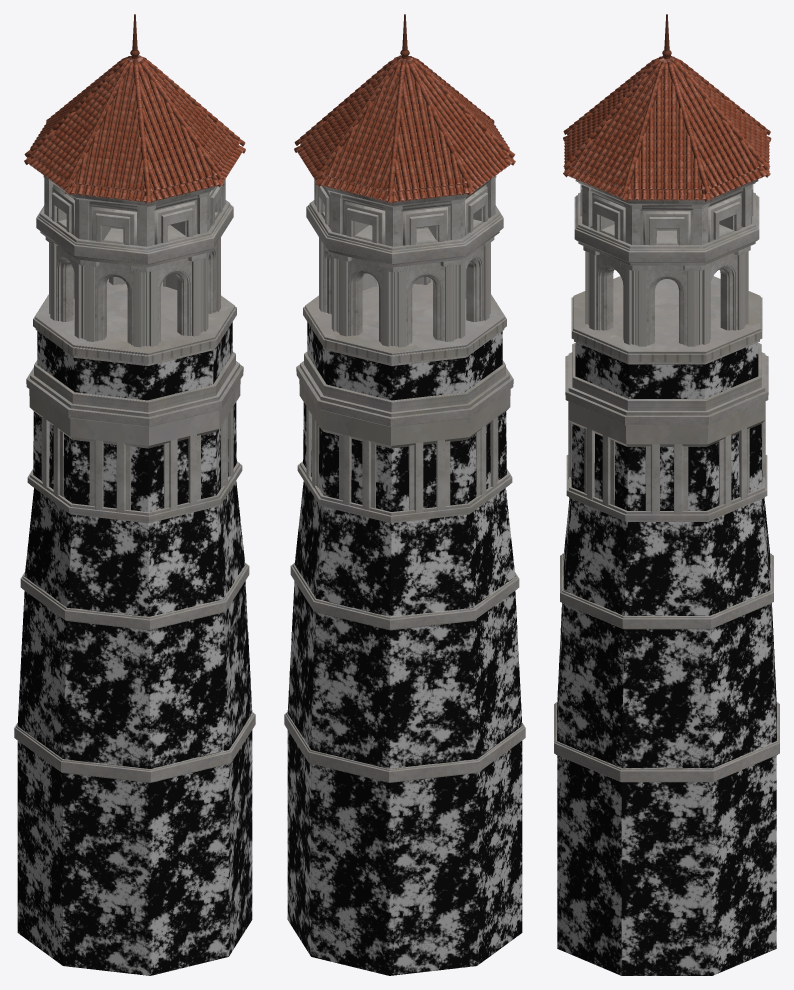
Rendered from SM_Tower_Big.fbx.
3 views of the same model, side by side, from view 1: azimuth 30°, elevation 25°; view 2: azimuth 150°, elevation 25°; view 3: azimuth 270°, elevation 25° (orthographic).
Visible parts, largest first — view 1: SM_Tower_Big_LOD0; view 2: SM_Tower_Big_LOD0; view 3: SM_Tower_Big_LOD0.
Boxes of the visible parts, x1,y1,x2,y2 form: SM_Tower_Big_LOD0: [14, 14, 255, 975]; SM_Tower_Big_LOD0: [284, 14, 525, 975]; SM_Tower_Big_LOD0: [554, 14, 779, 975].
Size of the model in its own units: 1219 by 1219 by 5458.
5 materials, 5 textured.
